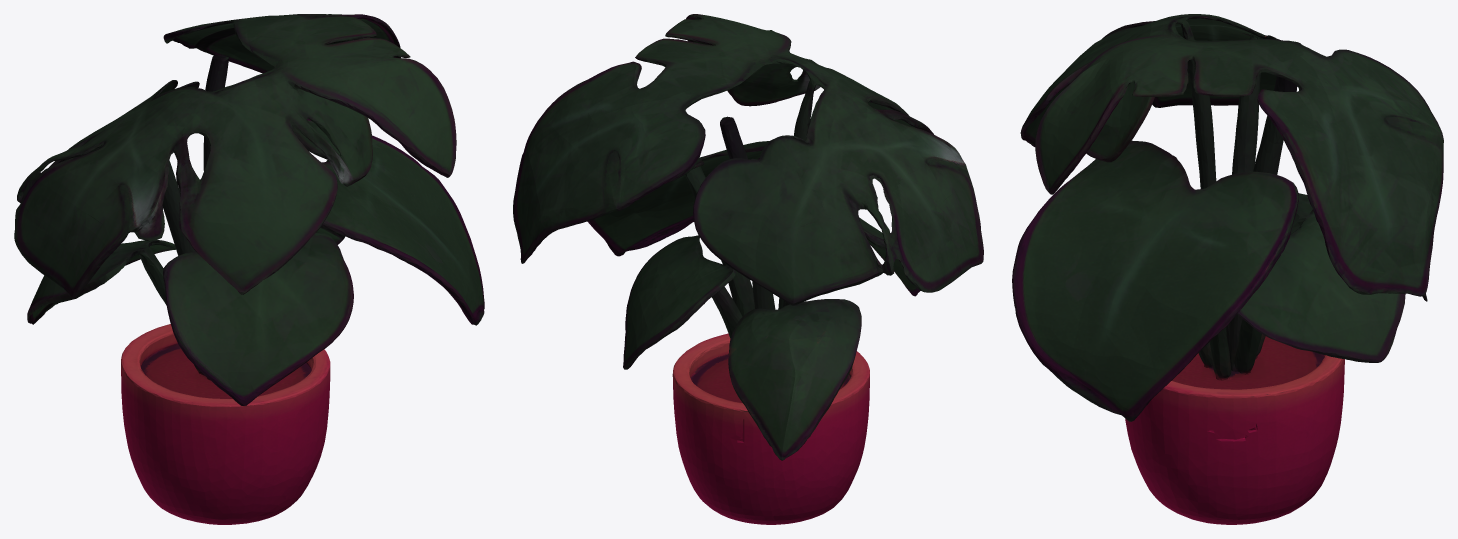
3 renders of one model, left to right at view 1: azimuth 30°, elevation 25°; view 2: azimuth 150°, elevation 25°; view 3: azimuth 270°, elevation 25°, orthographic. The views are drawn at different scales.
Parts seen in each view (by area): view 1: world; view 2: world; view 3: world.
Boxes of the visible parts, box(x1,y1,x2,y2) form: world: box(14, 14, 484, 524); world: box(513, 14, 983, 524); world: box(1012, 14, 1443, 524).
Size of the model in its own units: 84.15 by 88.37 by 71.56.
Materials: 1 (1 with a texture image).
